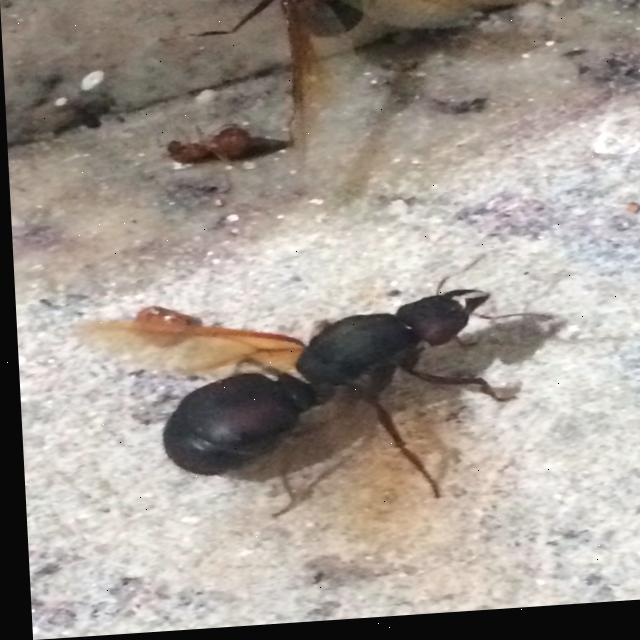Alive-Female-Alate: (58, 250, 565, 586)
